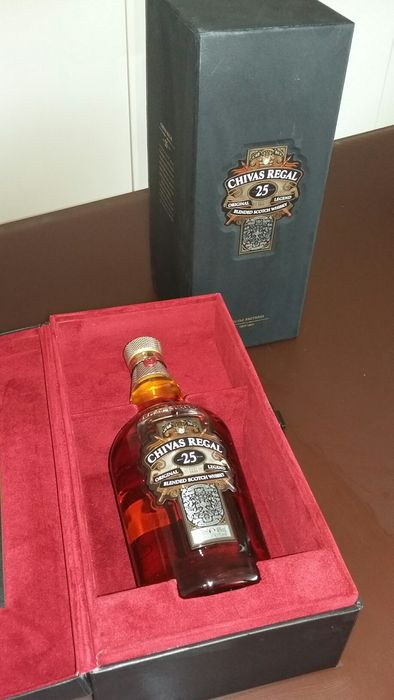Chivas Regal: (97, 325, 290, 611)
